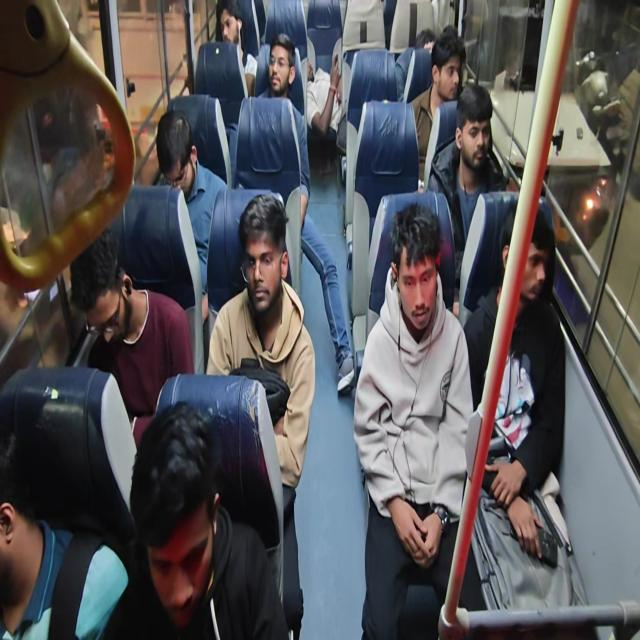person: (352, 201, 474, 638), (205, 193, 316, 637), (462, 201, 575, 611), (101, 400, 290, 639), (256, 33, 356, 393), (68, 226, 194, 450), (0, 430, 131, 639), (426, 83, 517, 290), (154, 109, 228, 320), (409, 27, 465, 186), (215, 0, 257, 97), (257, 32, 302, 114), (306, 52, 342, 137)
